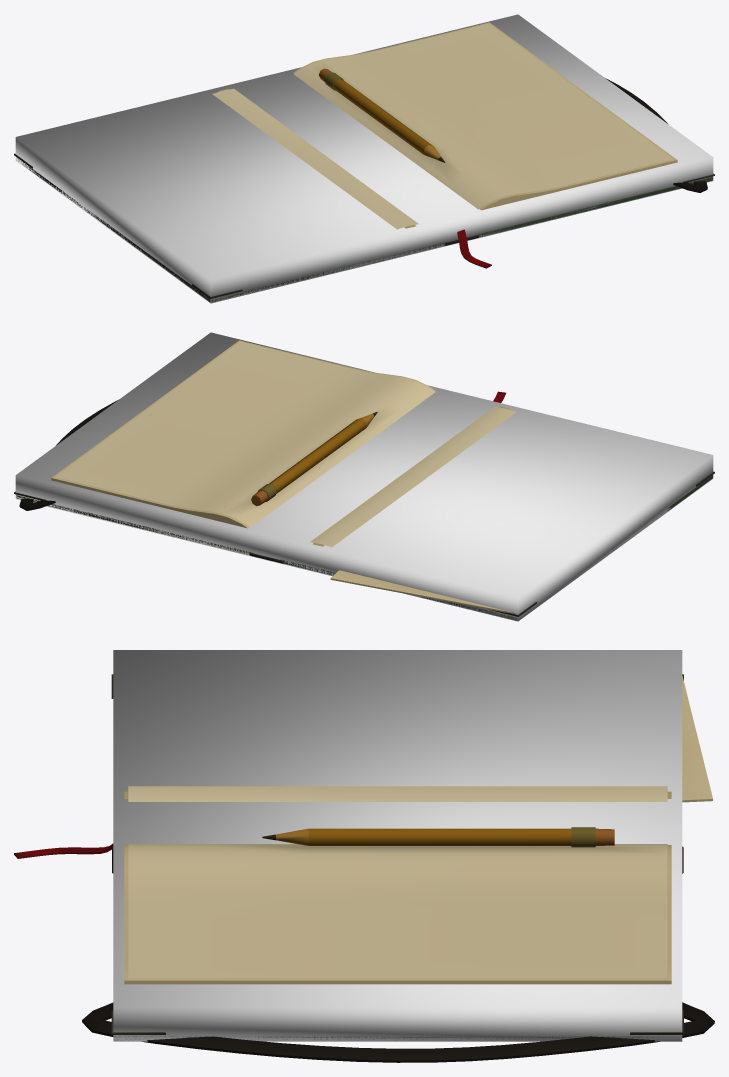
File: cuaderno_abierto.glb
3 renders of one model, top to bottom at view 1: azimuth 30°, elevation 25°; view 2: azimuth 150°, elevation 25°; view 3: azimuth 270°, elevation 25°, orthographic. The views are drawn at different scales.
Visible parts, largest first — view 1: cuaderno_abierto-colcaja, pagina_derecha, cuerpo, pagina_izquierda, lapiz; view 2: cuaderno_abierto-colcaja, pagina_derecha, cuerpo, pagina_izquierda, lapiz; view 3: cuaderno_abierto-colcaja, pagina_derecha, cuerpo, pagina_izquierda, lapiz, cinta.
Boxes of the visible parts, x1=… form: cuaderno_abierto-colcaja: x1=15, y1=14, x2=713, y2=303; pagina_derecha: x1=294, y1=23, x2=672, y2=209; cuerpo: x1=14, y1=22, x2=714, y2=301; pagina_izquierda: x1=212, y1=88, x2=418, y2=229; lapiz: x1=319, y1=68, x2=445, y2=162; cuaderno_abierto-colcaja: x1=15, y1=332, x2=713, y2=621; pagina_derecha: x1=56, y1=341, x2=434, y2=527; cuerpo: x1=14, y1=340, x2=714, y2=619; pagina_izquierda: x1=310, y1=406, x2=516, y2=547; lapiz: x1=251, y1=412, x2=377, y2=506; cuaderno_abierto-colcaja: x1=113, y1=650, x2=682, y2=1041; pagina_derecha: x1=128, y1=844, x2=667, y2=978; cuerpo: x1=82, y1=674, x2=714, y2=1062; pagina_izquierda: x1=128, y1=786, x2=667, y2=801; lapiz: x1=262, y1=827, x2=614, y2=847; cinta: x1=14, y1=843, x2=113, y2=858.
Size of the model in its own units: 0.3301 by 0.0247 by 0.2587.
